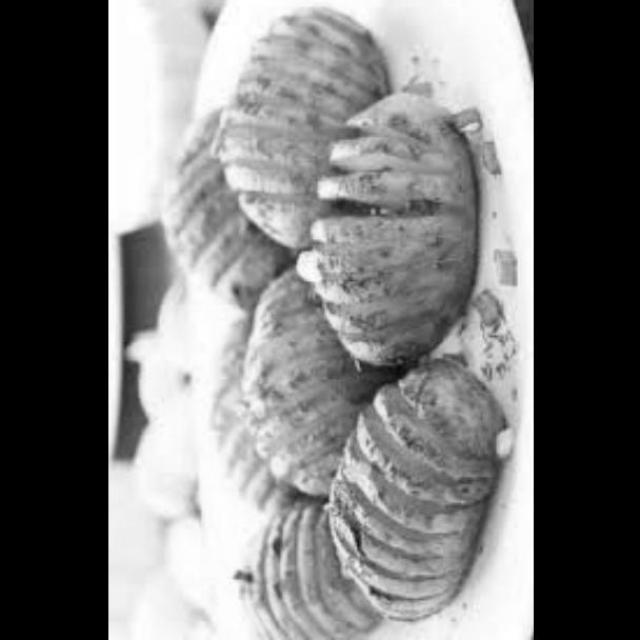khoai tay: (309, 81, 483, 376), (325, 350, 504, 627), (205, 1, 378, 262), (234, 247, 358, 513), (155, 94, 279, 312), (203, 304, 313, 513), (230, 497, 370, 640)
